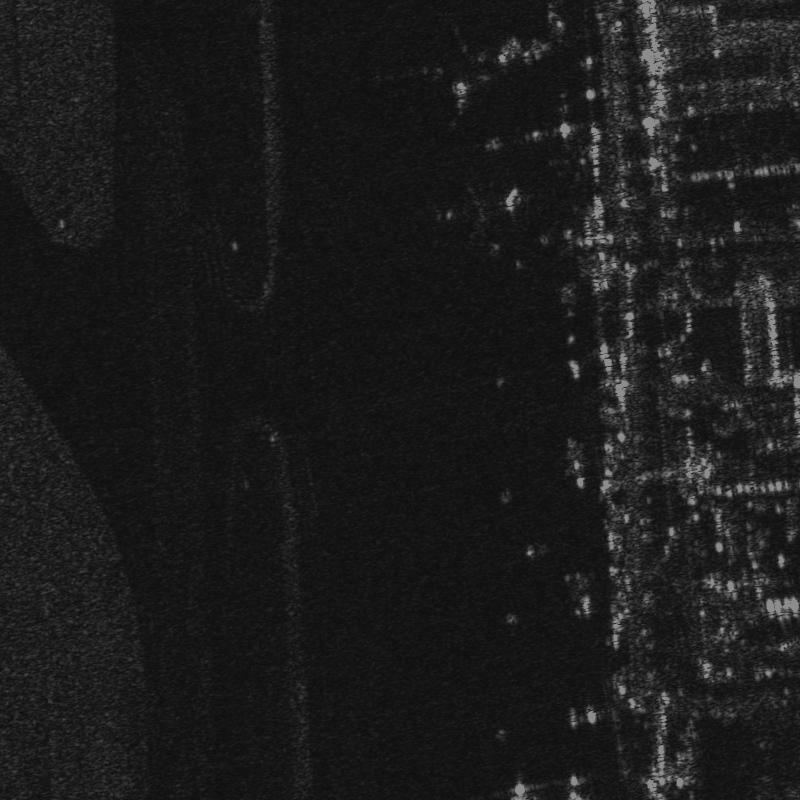ARJ21: (412, 11, 573, 120)
other: (434, 181, 520, 250)
